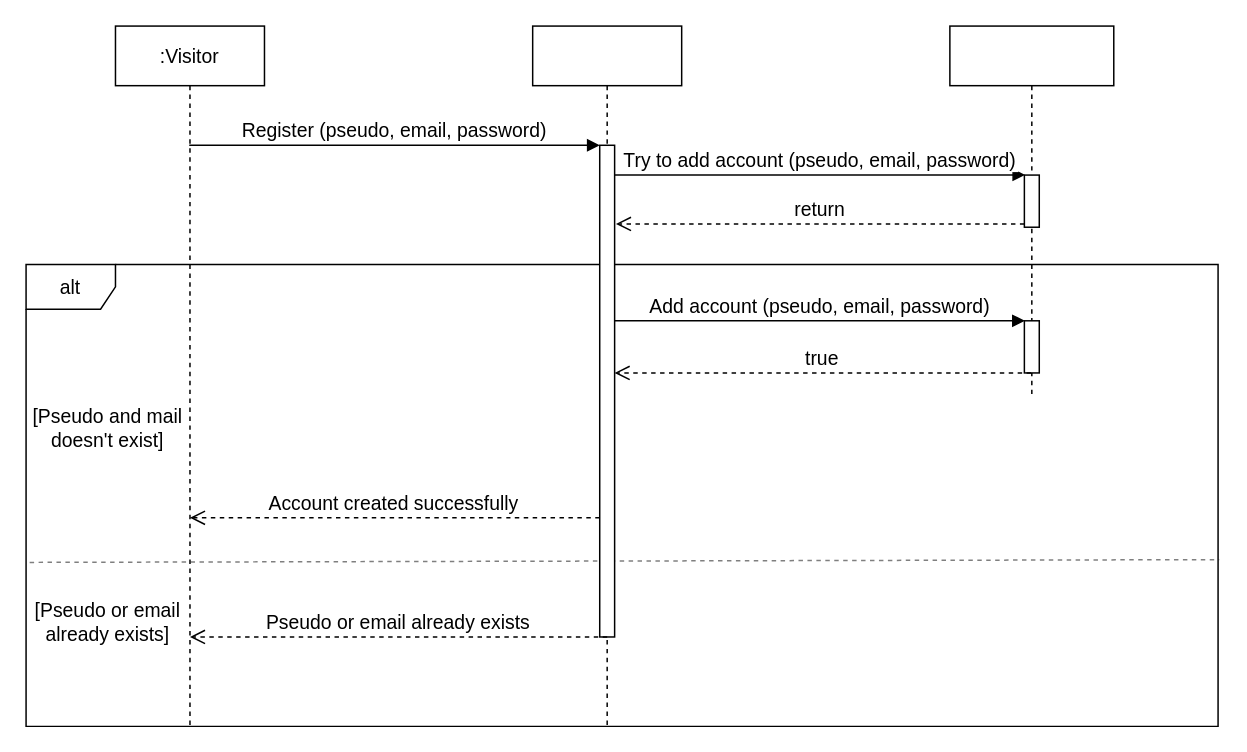
Some shapes in this 1247 by 752 pixel diagram are drawn without their labels. Here are the shapes that lost their labels. From the top down, the box of each, then its label:
(948, 25, 1114, 399): :User
(531, 25, 682, 726): :System
